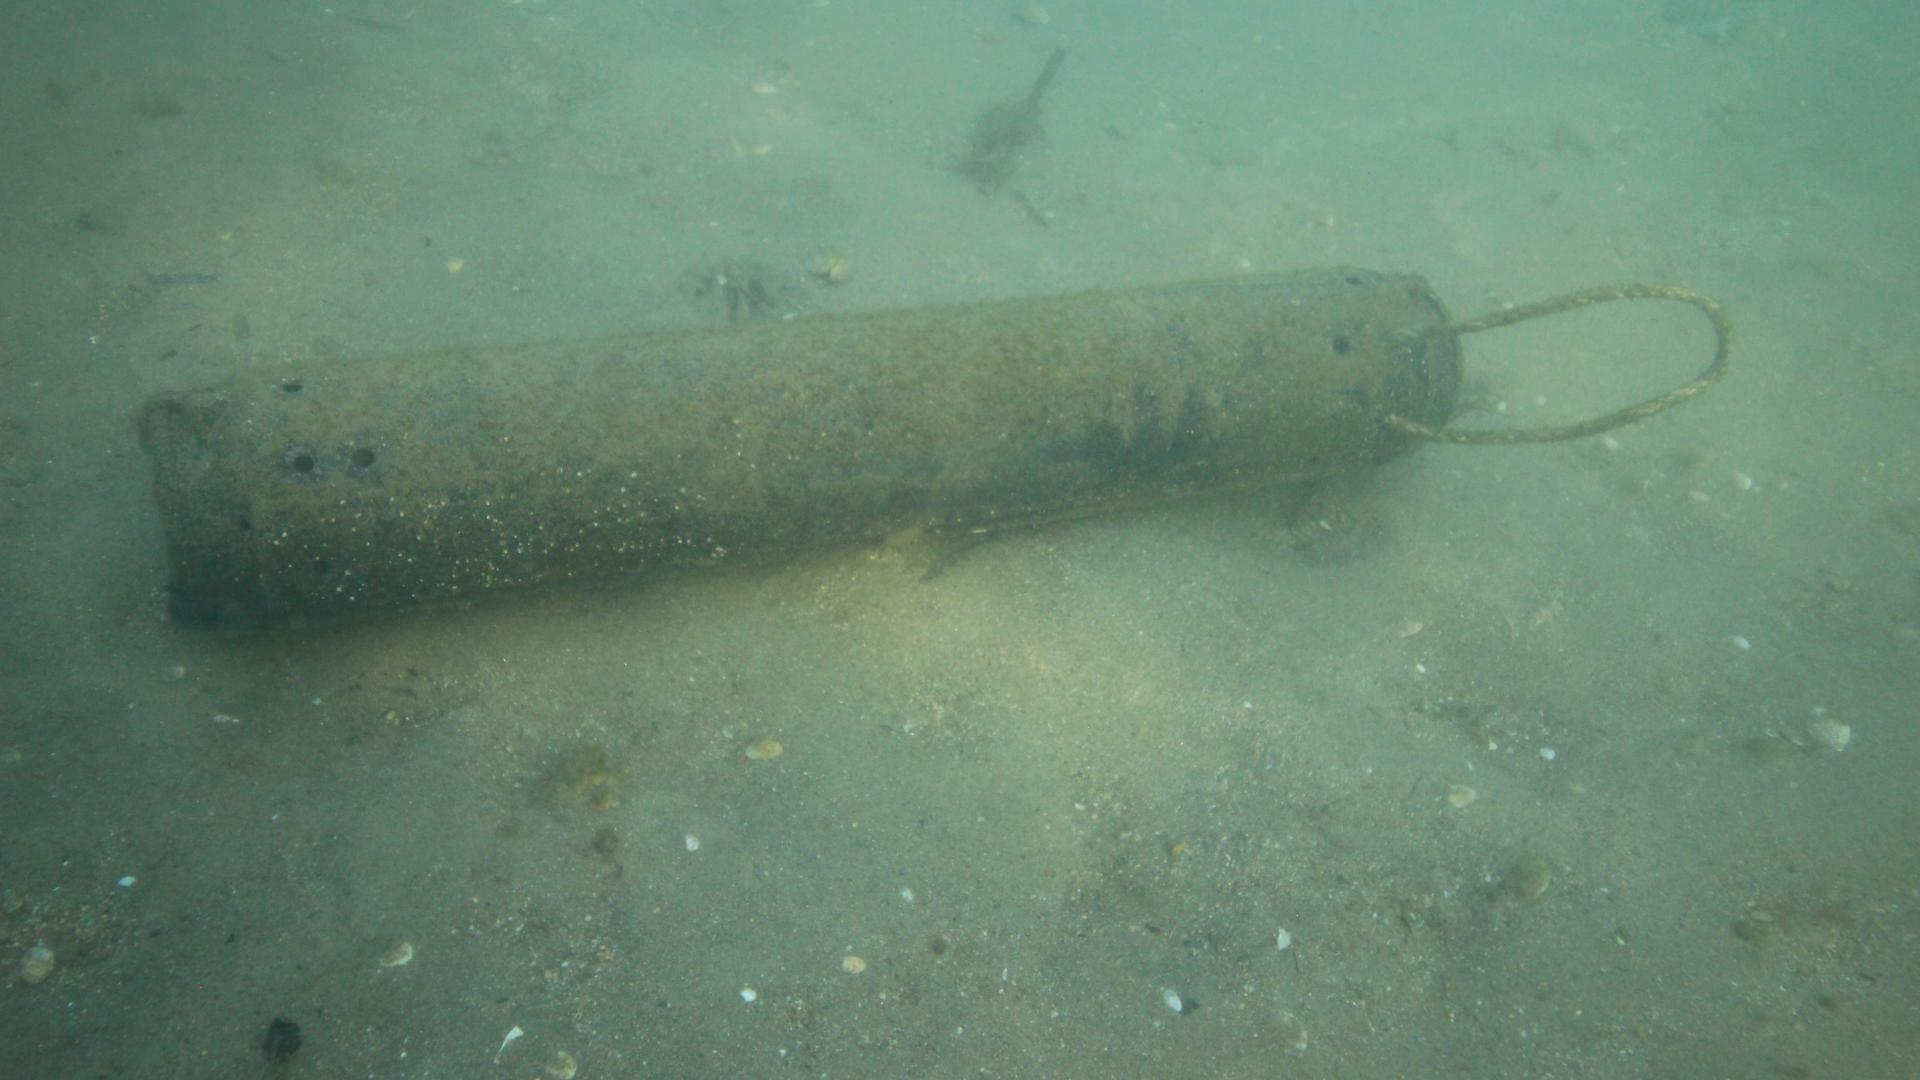eel fish trap: (127, 272, 1466, 630)
rope: (1379, 280, 1733, 443)
